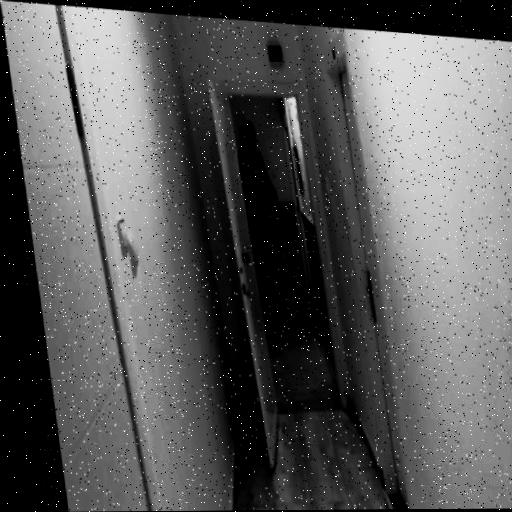balloon: (284, 285, 305, 322)
